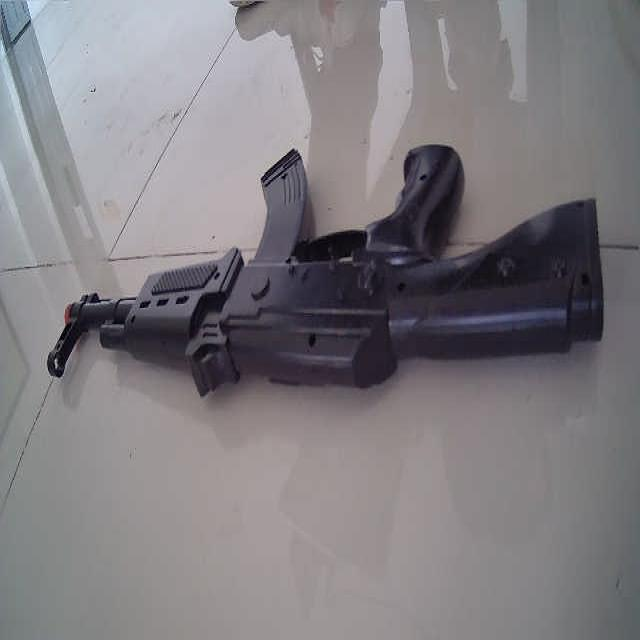rifle: (45, 144, 604, 396)
